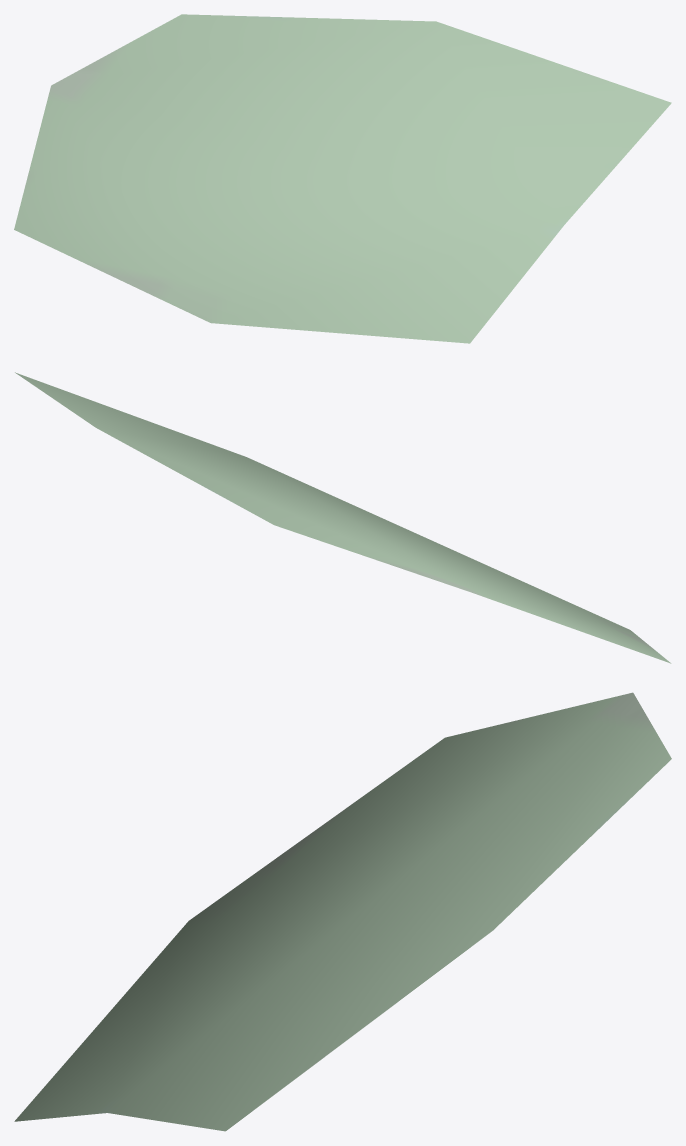
File: TROLLHOLE02_HOLECAP158.fbx
3 views of the same model, one above another, from view 1: azimuth 30°, elevation 25°; view 2: azimuth 150°, elevation 25°; view 3: azimuth 270°, elevation 25° (orthographic). The views are drawn at different scales.
Visible parts, largest first — view 1: TROLLHOLE02_HOLECAP158; view 2: TROLLHOLE02_HOLECAP158; view 3: TROLLHOLE02_HOLECAP158.
Boxes of the visible parts, bbox=[...] form: TROLLHOLE02_HOLECAP158: bbox=[14, 14, 671, 343]; TROLLHOLE02_HOLECAP158: bbox=[15, 372, 671, 663]; TROLLHOLE02_HOLECAP158: bbox=[14, 692, 671, 1131].
Bounding box in the file's own units: 43873 × 13851 × 27214.
1 material, 1 textured.
